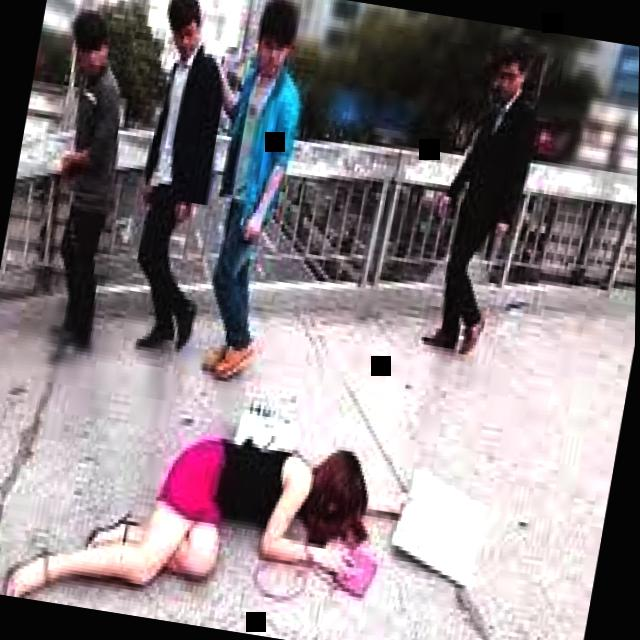Fall-Detected: (0, 372, 413, 640)
